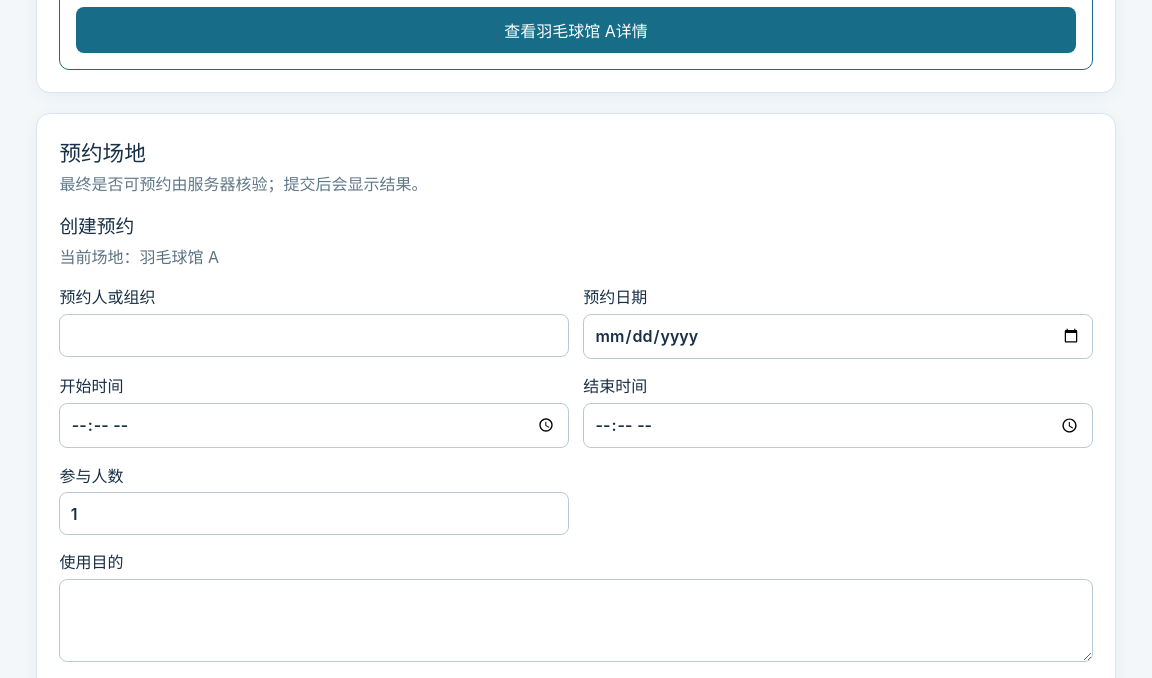
Test case: 场地预约页面 › 创建成功后忽略晚到的旧预约列表
(page scrolled)
Type "软件技术小组" into the field labelled "预约人或组织" at (314, 335), box [59,314,569,357]
Type "2030-10-30" into the date field labelled "预约日期" at (838, 336), box [583,314,1093,359]
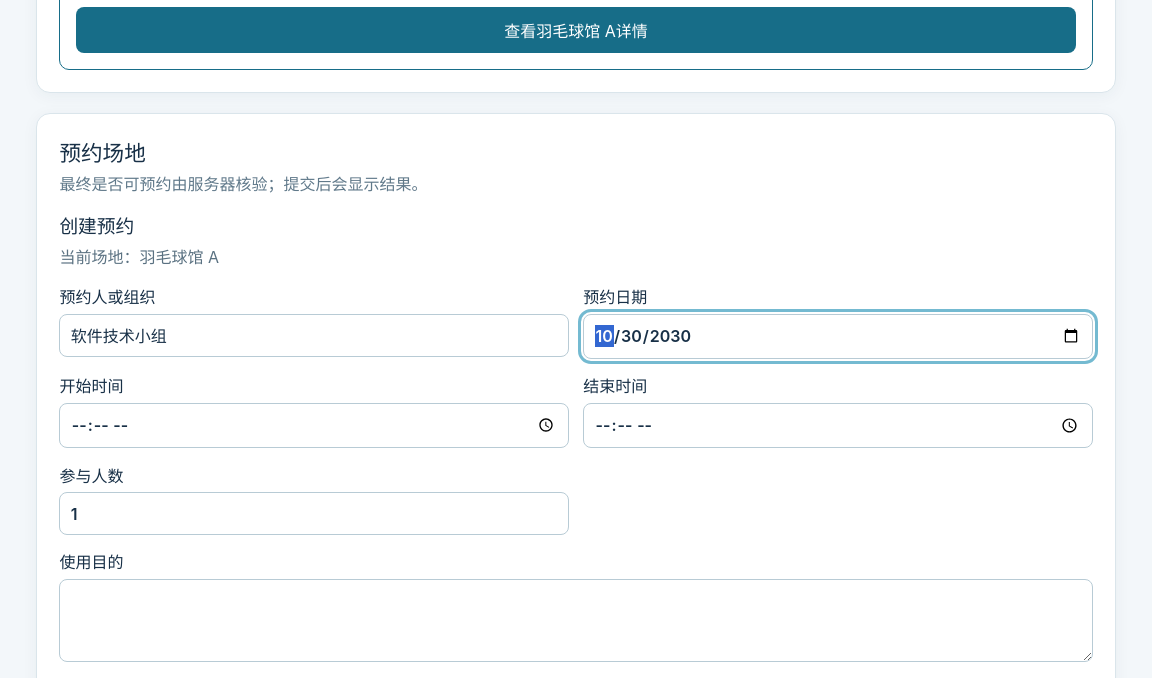
Type "10:00" into the time field labelled "开始时间" at (314, 425), box [59,403,569,448]
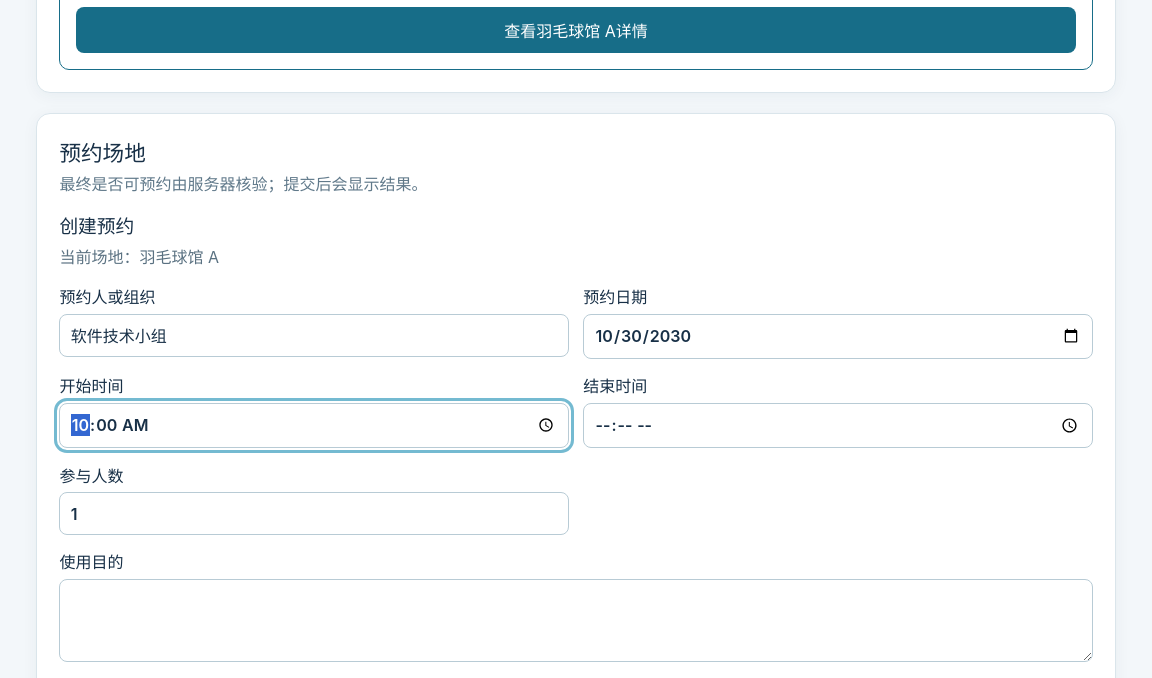
Type "11:00" into the time field labelled "结束时间" at (838, 425), box [583,403,1093,448]
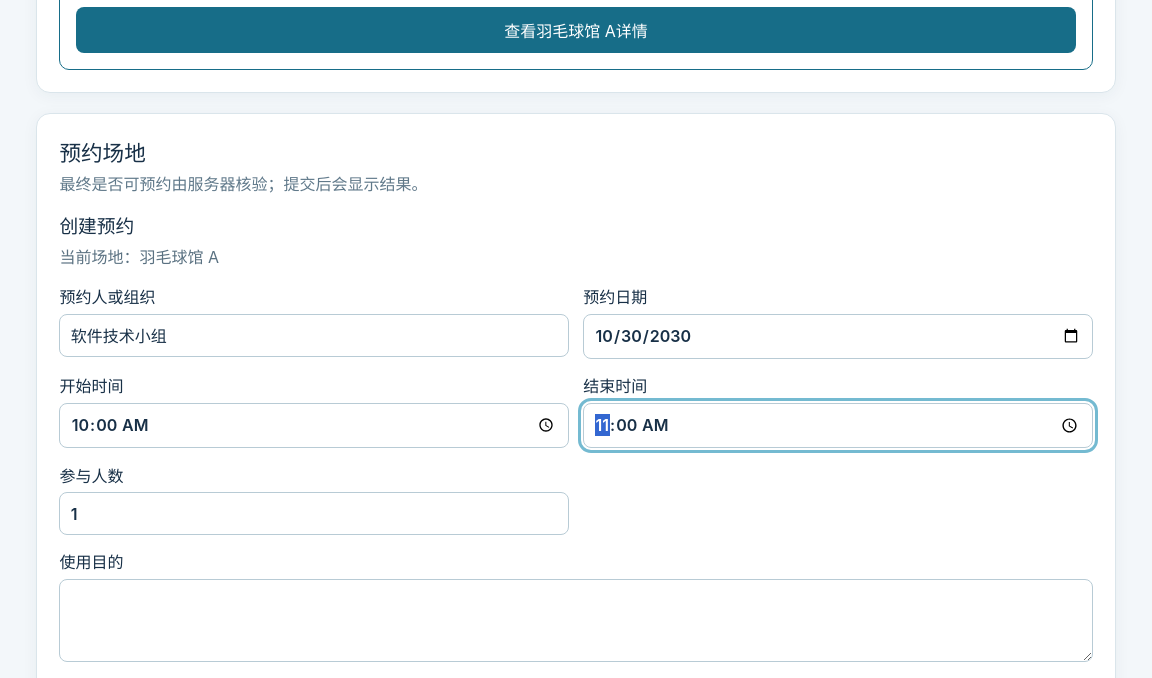
Replace the text in the number field labelled "参与人数" with "3" at (314, 514), box [59,492,569,535]
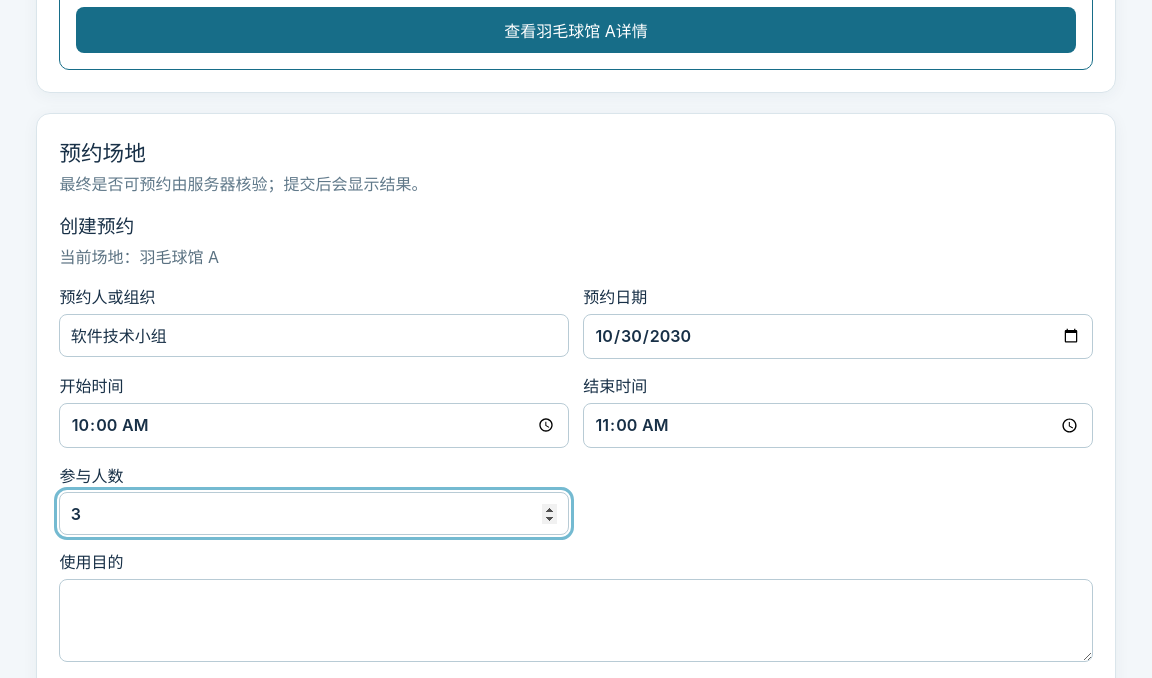
Type "小组活动" into the text box labelled "使用目的" at (576, 620), box [59,579,1093,662]
(page scrolled)
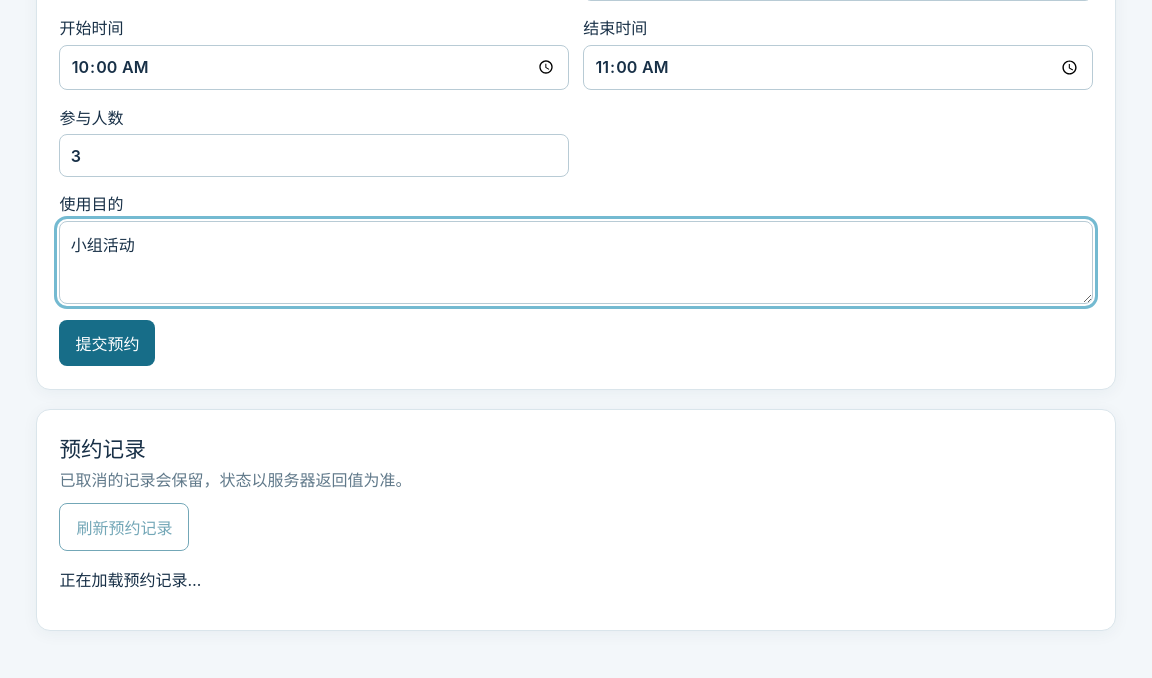
Click the button "提交预约" at (107, 343), box [59,320,155,366]
(page scrolled)
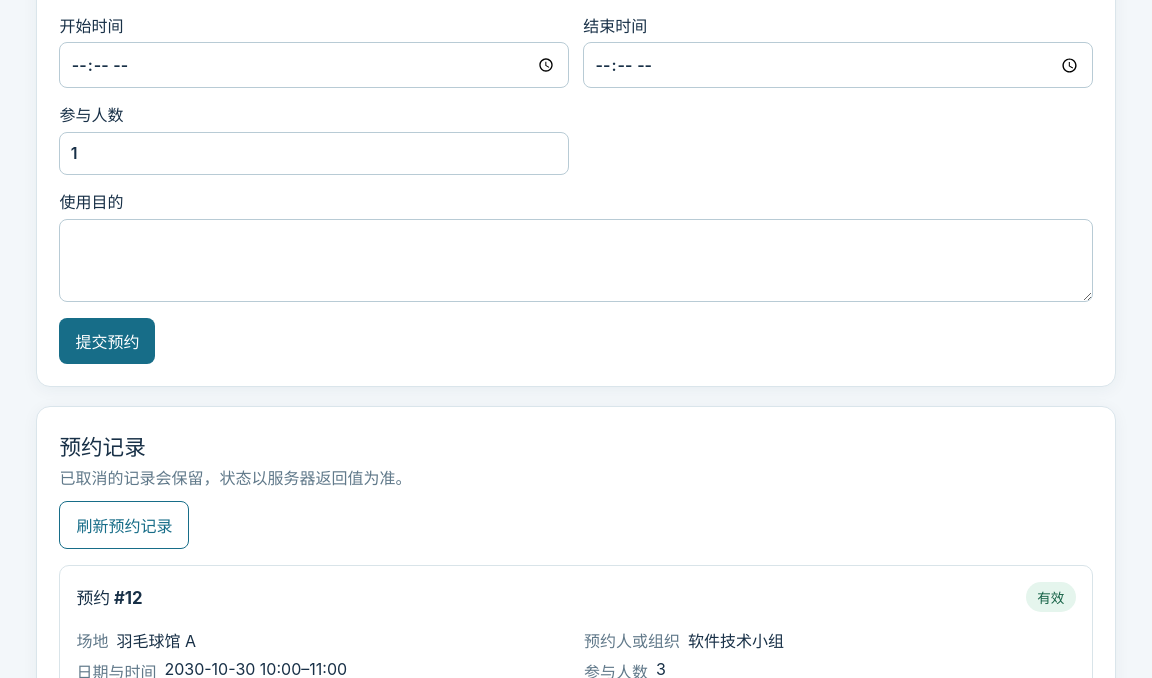
Now the text "软件技术小组" is shown, box [688,628,784,652]
